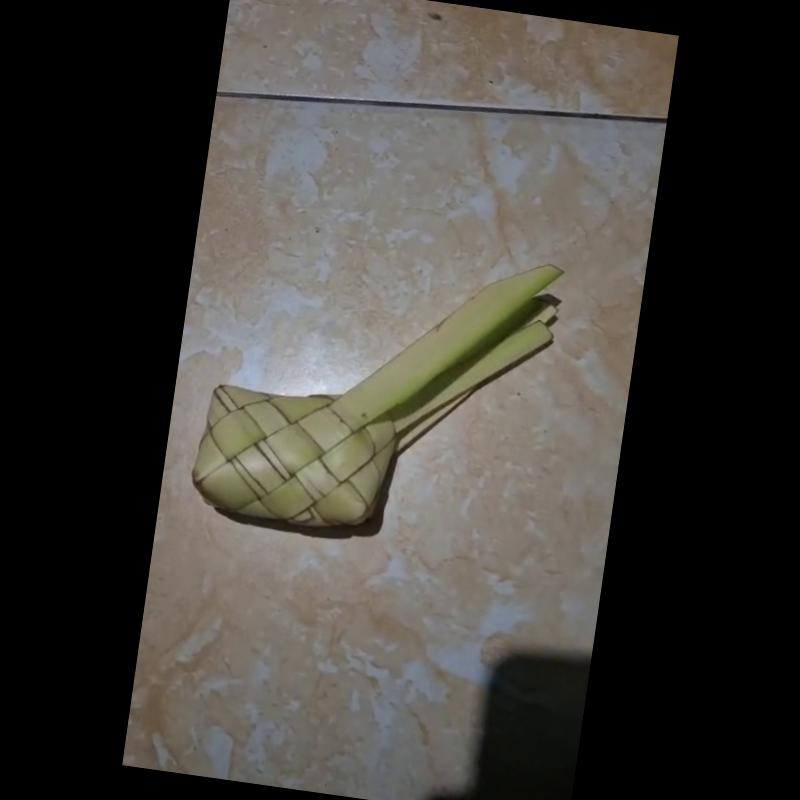Tipat Bantal: (188, 262, 556, 538)
